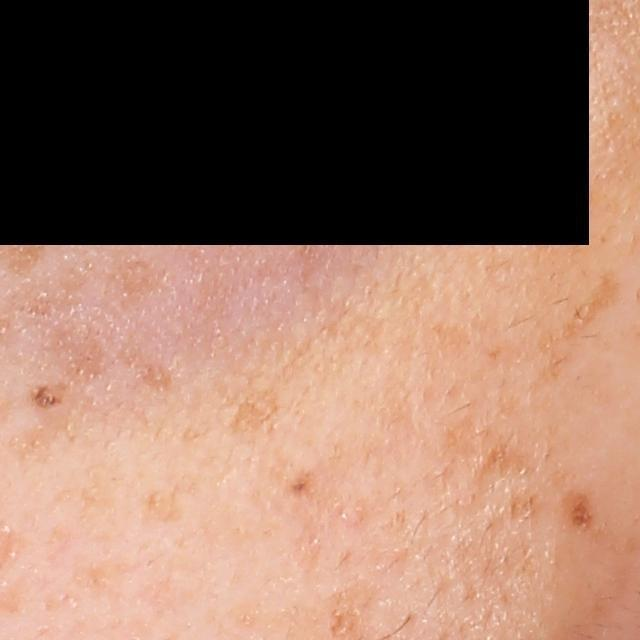melasma: (527, 266, 628, 399), (209, 344, 317, 450), (143, 451, 222, 527), (560, 487, 597, 536), (281, 466, 322, 503)
